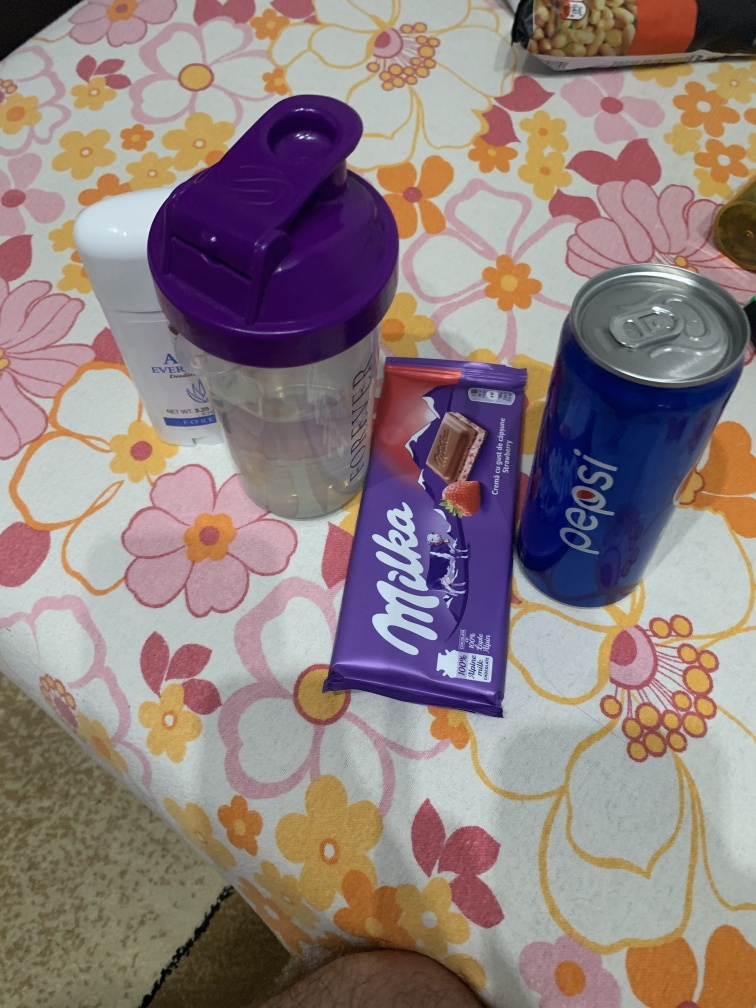milka: (328, 350, 529, 724)
peanuts: (504, 1, 756, 83)
pepsi: (519, 257, 755, 649)
